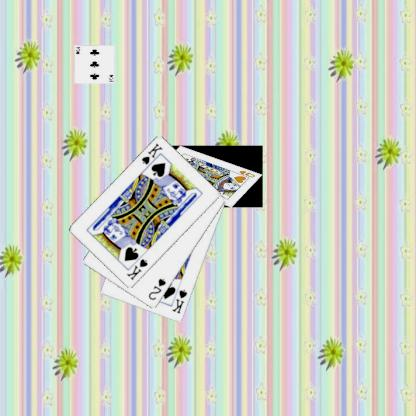2S: (146, 276, 167, 301)
KS: (139, 140, 164, 170), (124, 257, 149, 282), (169, 287, 189, 315)
